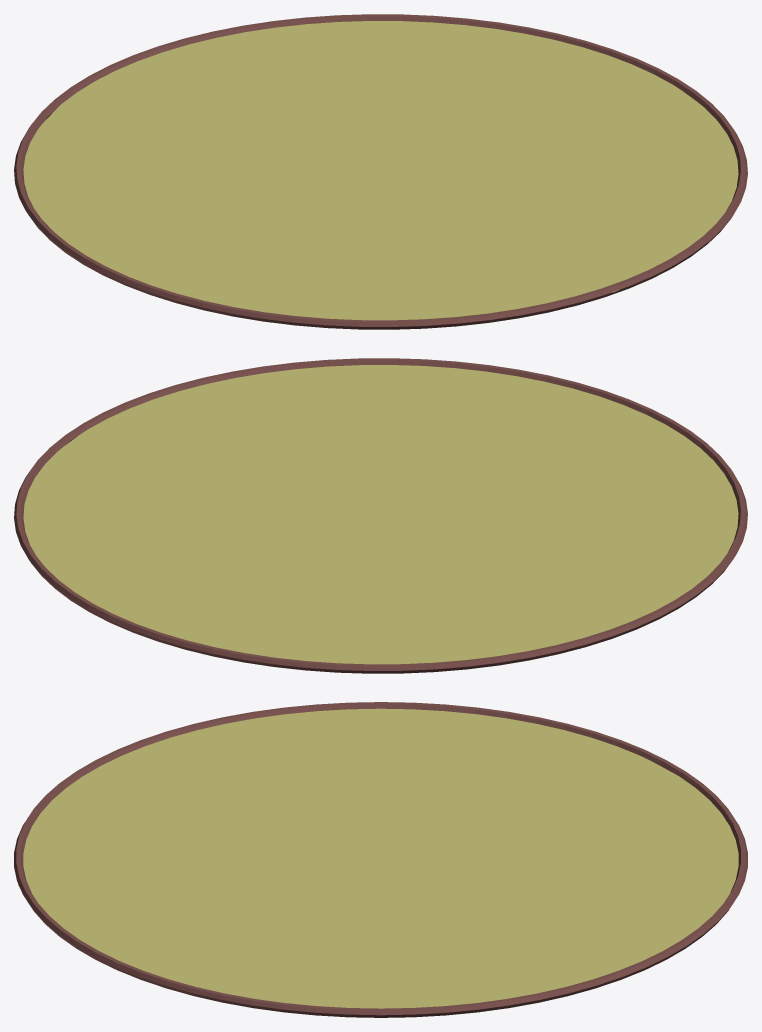
File: Escenario.fbx
The picture shows the model from 3 angles, top to bottom: view 1: azimuth 30°, elevation 25°; view 2: azimuth 150°, elevation 25°; view 3: azimuth 270°, elevation 25°; orthographic projection.
Visible parts, largest first — view 1: Plane, Torus; view 2: Plane, Torus; view 3: Plane, Torus.
Boxes of the visible parts, box(x1,y1,x2,y2) form: Plane: box(23, 21, 738, 320); Torus: box(14, 14, 747, 329); Plane: box(23, 365, 738, 664); Torus: box(14, 358, 747, 673); Plane: box(18, 708, 738, 1008); Torus: box(14, 702, 747, 1017).
Bounding box in the file's own units: 3918 × 43.6 × 3914.
